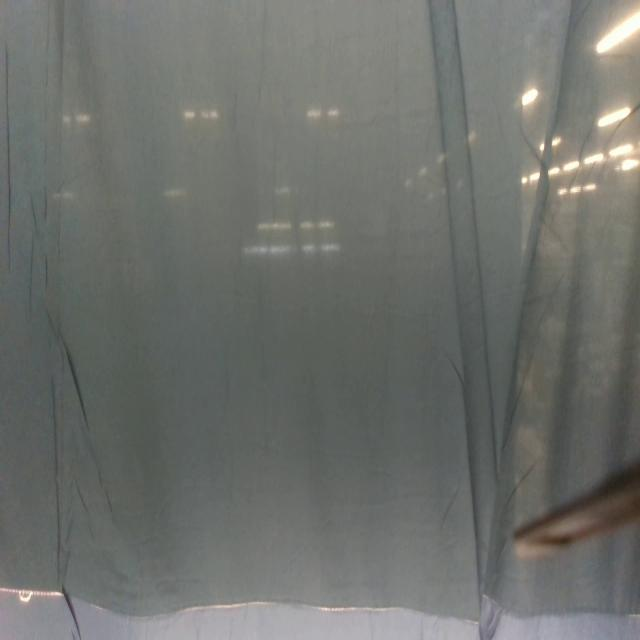crease: (426, 0, 512, 615), (57, 328, 91, 433), (48, 376, 63, 584), (2, 39, 14, 274), (42, 1, 53, 173), (59, 583, 82, 640), (28, 234, 36, 322), (28, 193, 40, 230), (42, 252, 52, 296), (75, 486, 91, 509), (105, 488, 115, 514), (43, 182, 49, 221), (98, 469, 105, 492)
